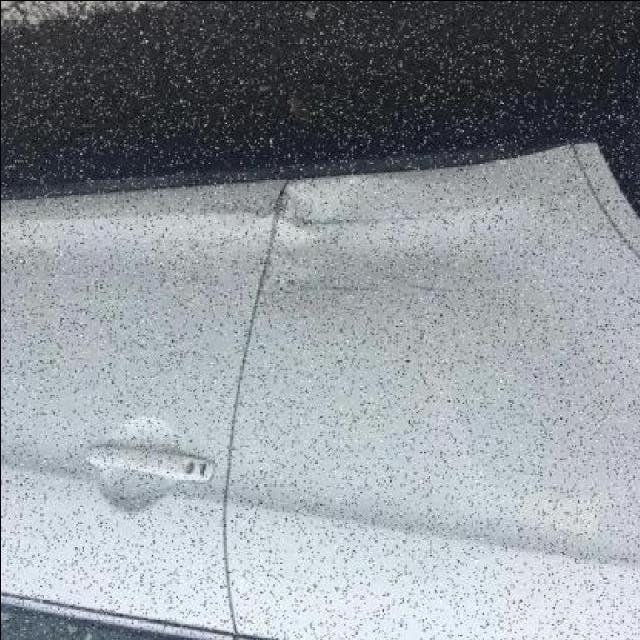doorouter-dent: (246, 134, 640, 640), (1, 135, 242, 639)
